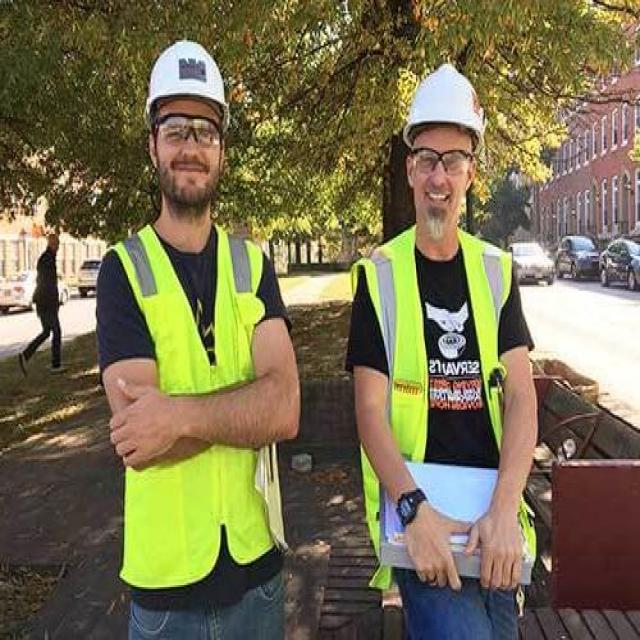Reflective-Jacket: (109, 225, 284, 591), (358, 228, 530, 567)
Safety-Helmet: (398, 60, 489, 144), (144, 35, 230, 113)
